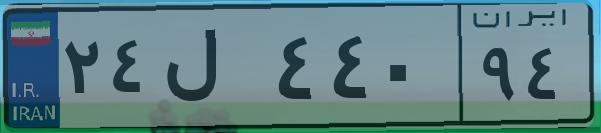0: (385, 28, 445, 110)
2: (57, 26, 110, 100)
4: (270, 28, 330, 110), (330, 28, 385, 110), (525, 38, 570, 115), (110, 28, 158, 98)
9: (475, 38, 525, 113)
ل: (158, 20, 270, 120)
